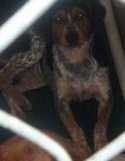dog: (7, 0, 117, 152)
